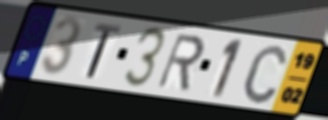1: (211, 37, 246, 101)
3: (122, 25, 167, 90), (40, 13, 84, 78)
C: (240, 42, 289, 106)
R: (155, 32, 208, 93)
T: (85, 21, 123, 80)
